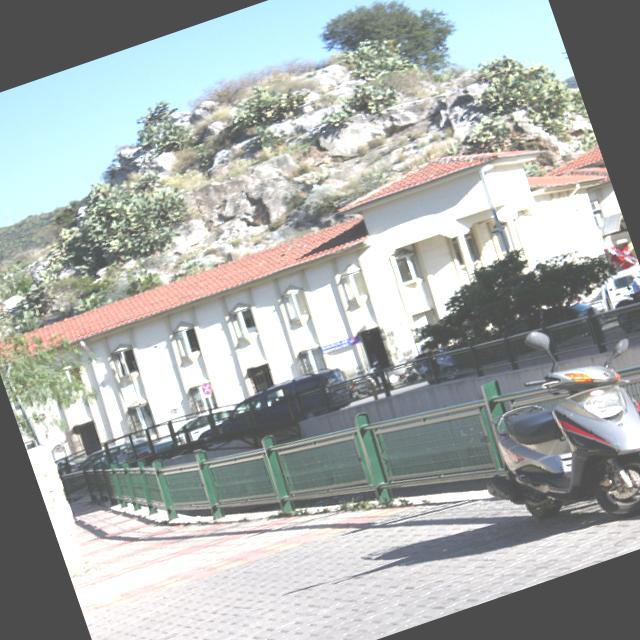Vehicle: (441, 302, 640, 558), (186, 361, 356, 456), (573, 262, 640, 319)
